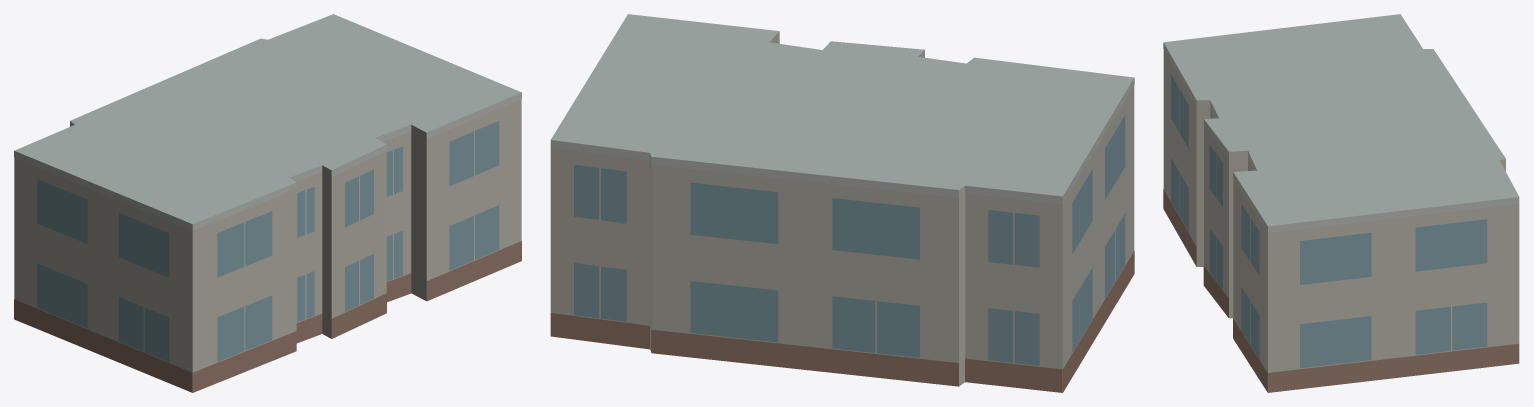
The model's file is survey-upis-32624097.glb.
3 views of the same model, side by side, from view 1: azimuth 30°, elevation 25°; view 2: azimuth 150°, elevation 25°; view 3: azimuth 270°, elevation 25° (orthographic). The views are drawn at different scales.
Visible parts, largest first — view 1: survey-upis-32624097.tmp; view 2: survey-upis-32624097.tmp; view 3: survey-upis-32624097.tmp.
Part boxes in pixels (<box>): survey-upis-32624097.tmp: <box>14,14,521,392</box>; survey-upis-32624097.tmp: <box>550,14,1134,392</box>; survey-upis-32624097.tmp: <box>1163,14,1519,392</box>.
Bounding box in the file's own units: 16.68 × 6.1 × 11.82.
